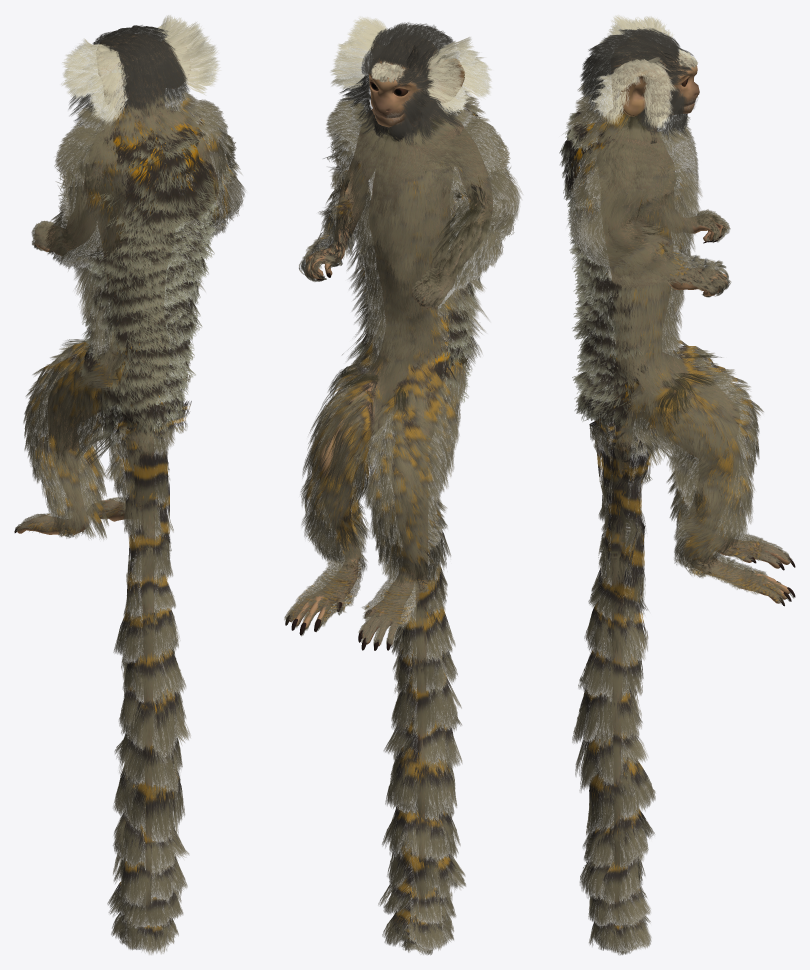
File: 3dsimp_comp.glb
3 renders of one model, left to right at view 1: azimuth 30°, elevation 25°; view 2: azimuth 150°, elevation 25°; view 3: azimuth 270°, elevation 25°, orthographic.
Parts seen in each view (by area): view 1: Body_fix_011.001, Marmoset_body.001; view 2: Body_fix_011.001, Marmoset_body.001; view 3: Body_fix_011.001, Marmoset_body.001.
Part boxes in pixels (x1=…): Body_fix_011.001: x1=14, y1=15, x2=245, y2=954; Marmoset_body.001: x1=14, y1=36, x2=218, y2=906; Body_fix_011.001: x1=284, y1=16, x2=522, y2=955; Marmoset_body.001: x1=285, y1=46, x2=492, y2=912; Body_fix_011.001: x1=559, y1=15, x2=793, y2=954; Marmoset_body.001: x1=597, y1=35, x2=795, y2=911.
Size of the model in its own units: 0.1054 by 0.5177 by 0.1214.
Materials: 3 (3 with a texture image).
